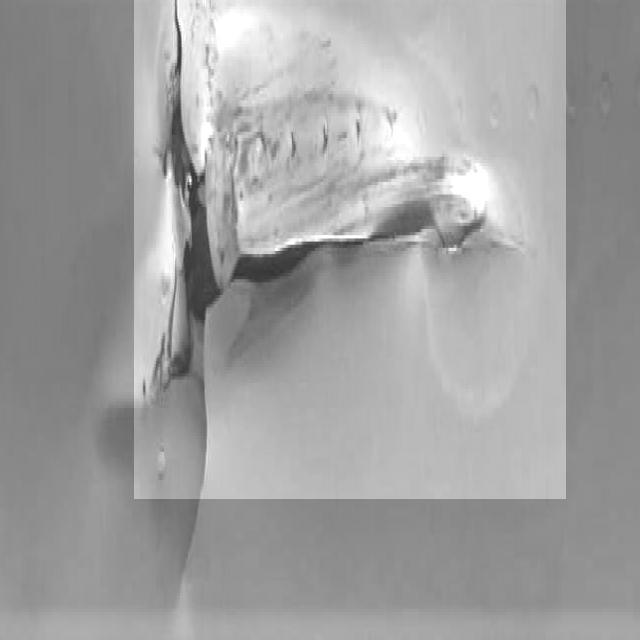crack: (135, 1, 567, 500)
